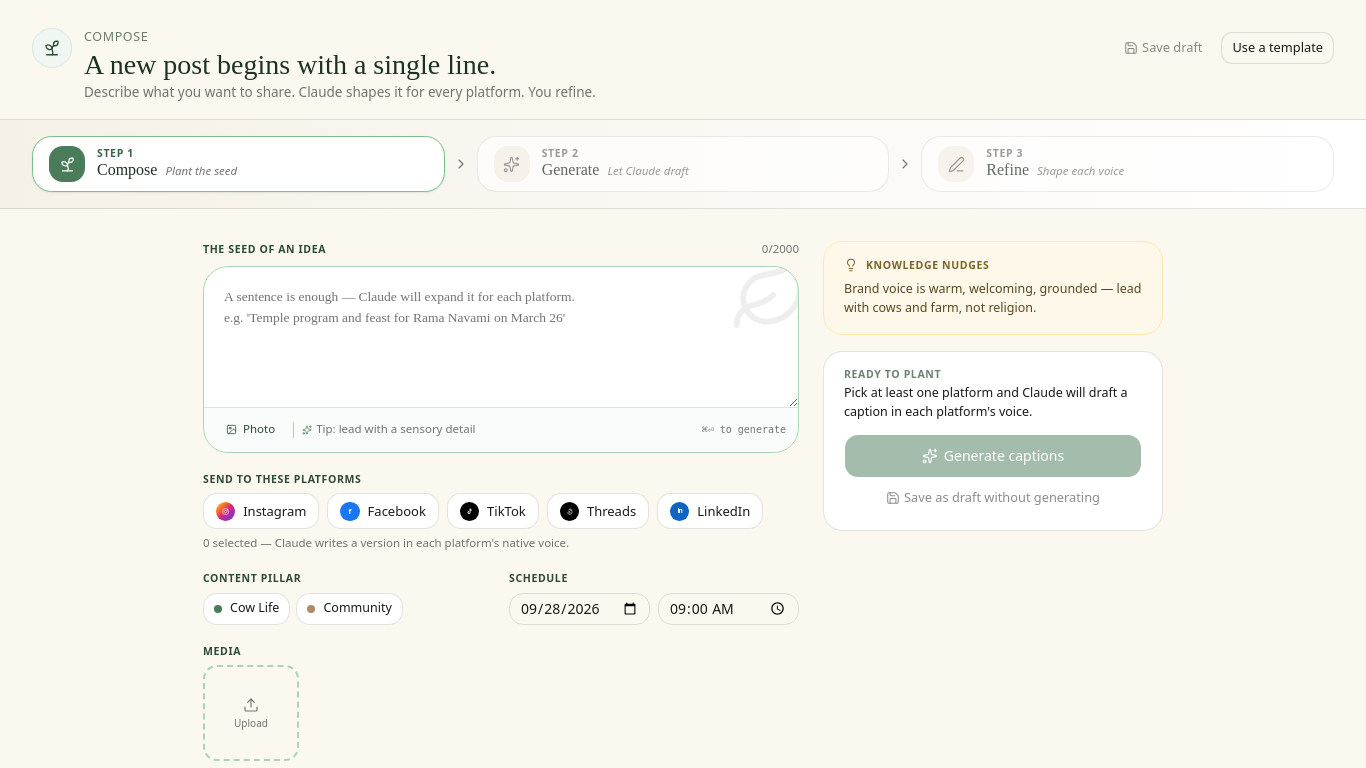
Test: CreatePage › gates Generate captions until a seed and at least one platform are set
The image size is (1366, 768).
Expected: the button "Generate captions" is disabled, [844, 434, 1142, 478]
Type "Sparkle greeted the visitors" into the text box labelled "The seed of an idea" at (501, 337), box [204, 267, 798, 407]
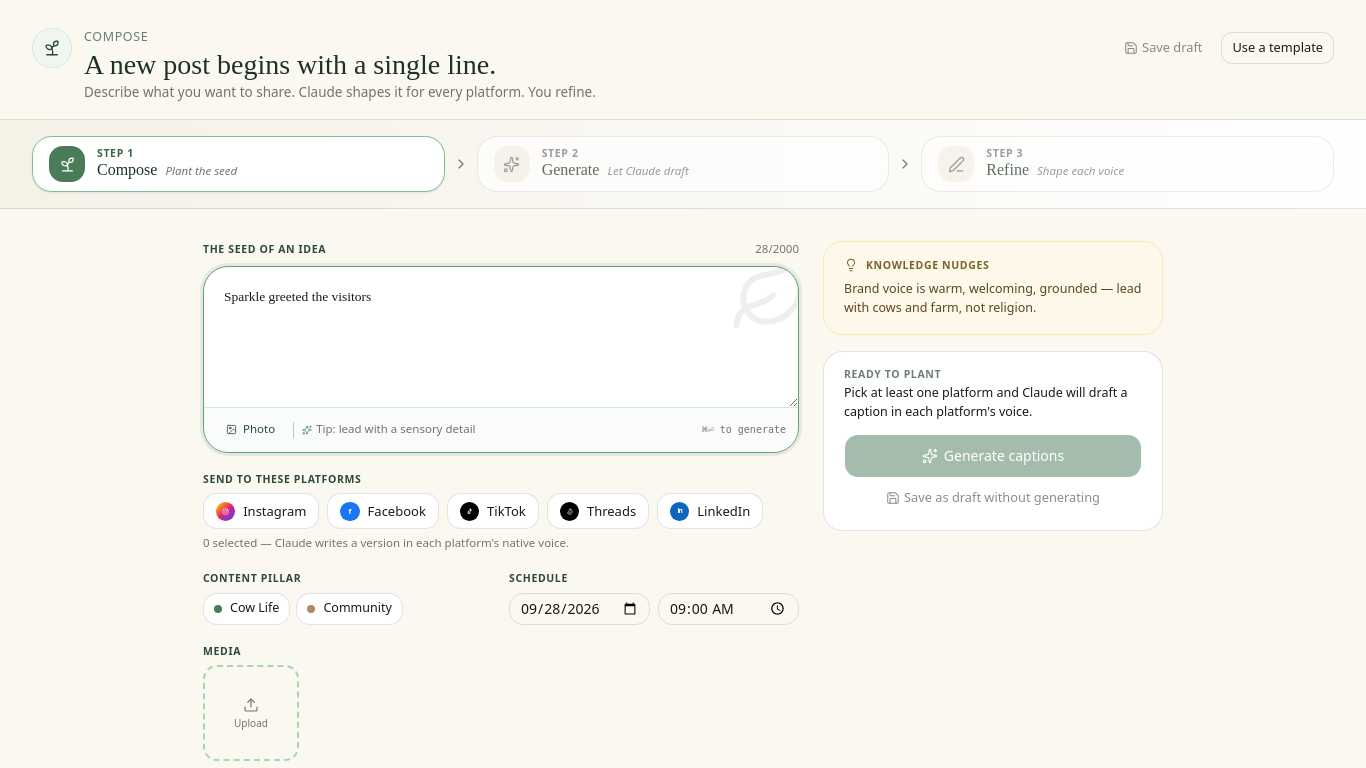
Expected: the button "Generate captions" is disabled, [844, 434, 1142, 478]
Click the button "Instagram" at (261, 511), box [203, 493, 319, 529]
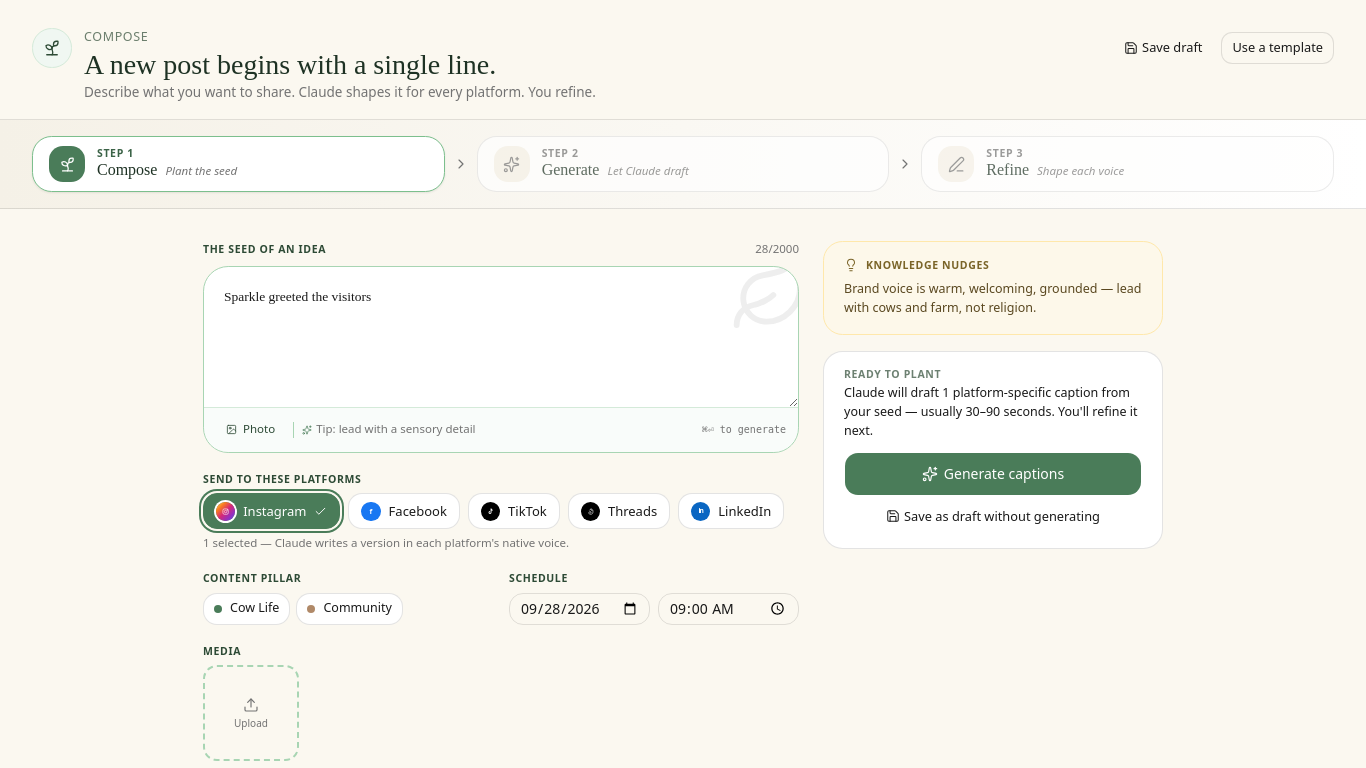
Expected: the button "Generate captions" is enabled, [844, 452, 1142, 496]
